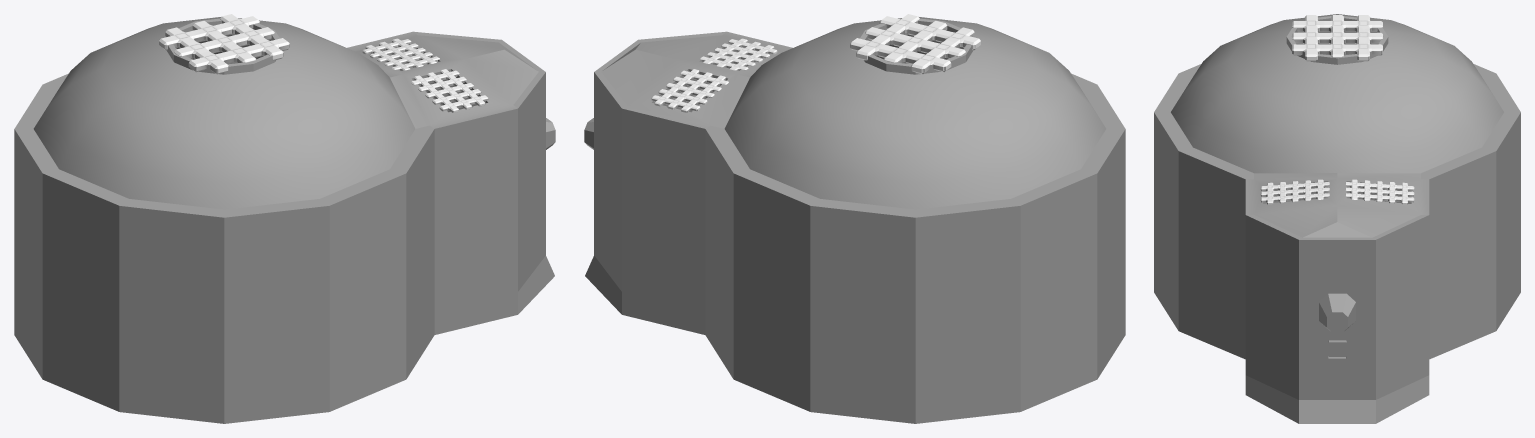
Rendered from TutorialRoom.fbx.
The picture shows the model from 3 angles, left to right: view 1: azimuth 30°, elevation 25°; view 2: azimuth 150°, elevation 25°; view 3: azimuth 270°, elevation 25°; orthographic projection. The views are drawn at different scales.
Visible parts, largest first — view 1: walls, polySurface71, polySurface116, polySurface115, roofHole; view 2: walls, polySurface71, polySurface115, polySurface116, roofHole; view 3: walls, polySurface71, polySurface115, polySurface116, roofHole.
Part boxes in pixels (bbox=[...]): walls: bbox=[14, 17, 555, 423]; polySurface71: bbox=[159, 14, 289, 74]; polySurface116: bbox=[411, 69, 488, 112]; polySurface115: bbox=[362, 38, 439, 70]; roofHole: bbox=[166, 18, 279, 74]; walls: bbox=[584, 17, 1125, 423]; polySurface71: bbox=[850, 14, 980, 74]; polySurface115: bbox=[651, 69, 728, 112]; polySurface116: bbox=[700, 38, 777, 70]; roofHole: bbox=[860, 18, 973, 74]; walls: bbox=[1154, 14, 1520, 423]; polySurface71: bbox=[1292, 15, 1382, 61]; polySurface115: bbox=[1345, 179, 1414, 204]; polySurface116: bbox=[1260, 179, 1329, 204]; roofHole: bbox=[1286, 16, 1388, 64].
Size of the model in its own units: 873 by 627 by 489.
